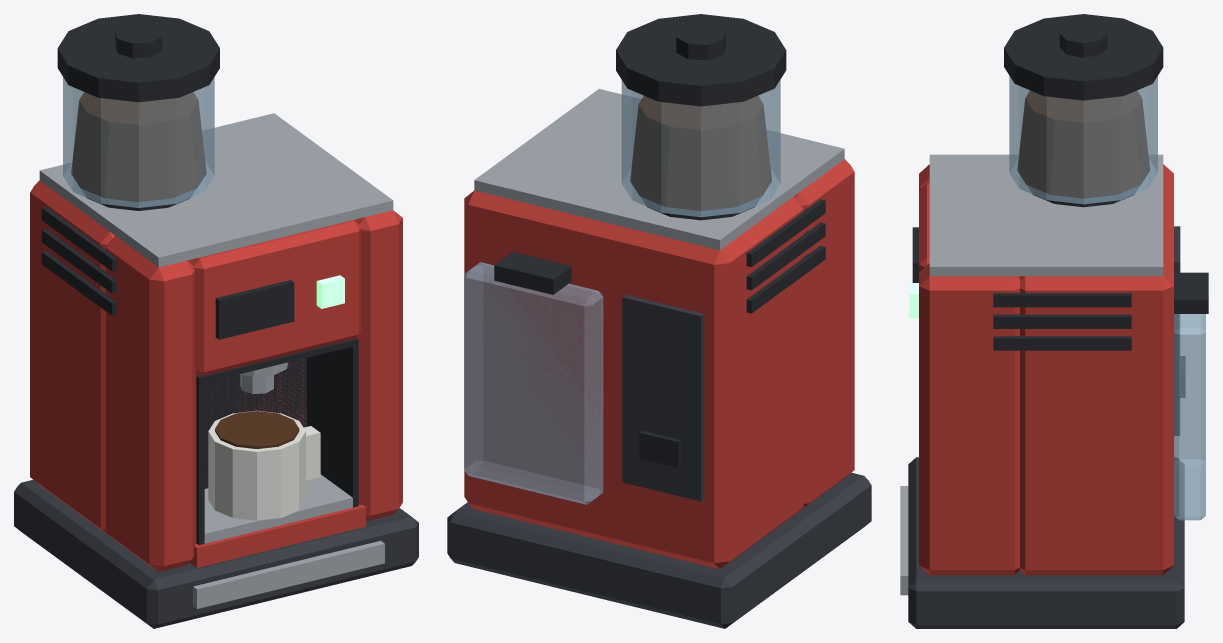
Rendered from coffee_core.glb.
3 views of the same model, side by side, from view 1: azimuth 30°, elevation 25°; view 2: azimuth 150°, elevation 25°; view 3: azimuth 270°, elevation 25° (orthographic). The views are drawn at different scales.
Visible parts, largest first — view 1: coffee_core_mesh; view 2: coffee_core_mesh; view 3: coffee_core_mesh.
Part boxes in pixels (x1,y1,x2,y2): coffee_core_mesh: [14, 14, 418, 628]; coffee_core_mesh: [447, 14, 871, 628]; coffee_core_mesh: [900, 14, 1208, 628].
Bounding box in the file's own units: 0.58 × 1.05 × 0.58.
